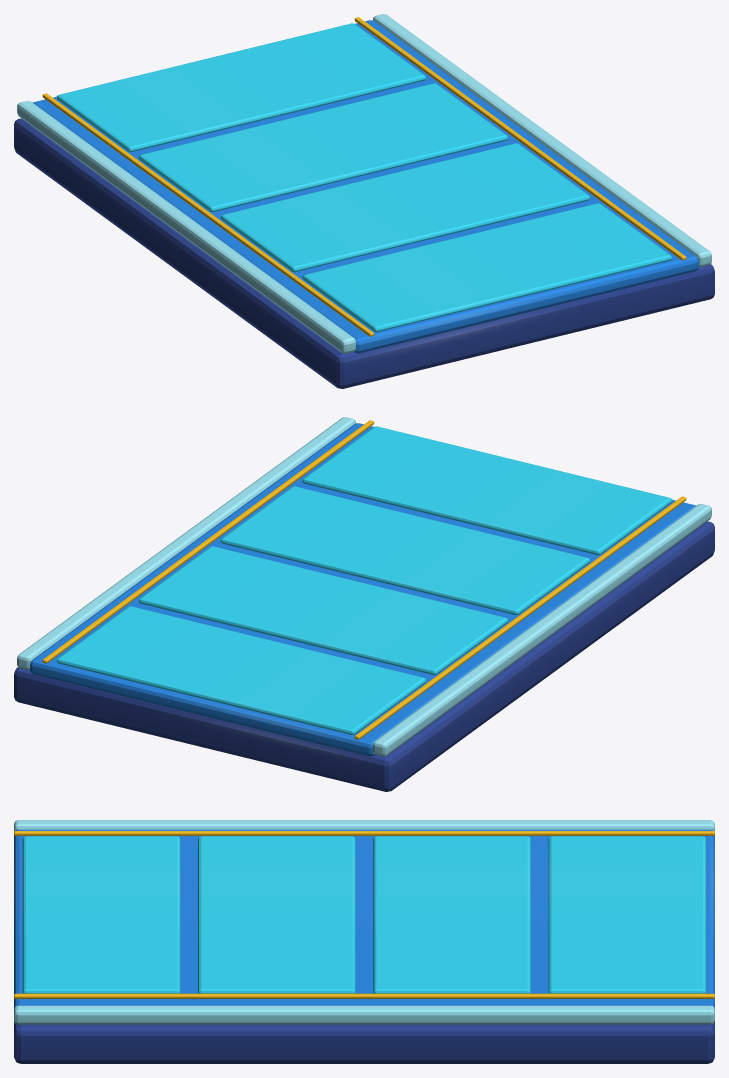
File: HubPathStrip.fbx
3 views of the same model, one above another, from view 1: azimuth 30°, elevation 25°; view 2: azimuth 150°, elevation 25°; view 3: azimuth 270°, elevation 25° (orthographic). The views are drawn at different scales.
Parts seen in each view (by area): view 1: HubPathStrip; view 2: HubPathStrip; view 3: HubPathStrip.
Boxes of the visible parts, x1,y1,x2,y2 form: HubPathStrip: [14, 14, 714, 388]; HubPathStrip: [14, 417, 714, 791]; HubPathStrip: [14, 820, 714, 1063].
Size of the model in its own units: 8 by 1.04 by 12.
Materials: 1 (1 with a texture image).
